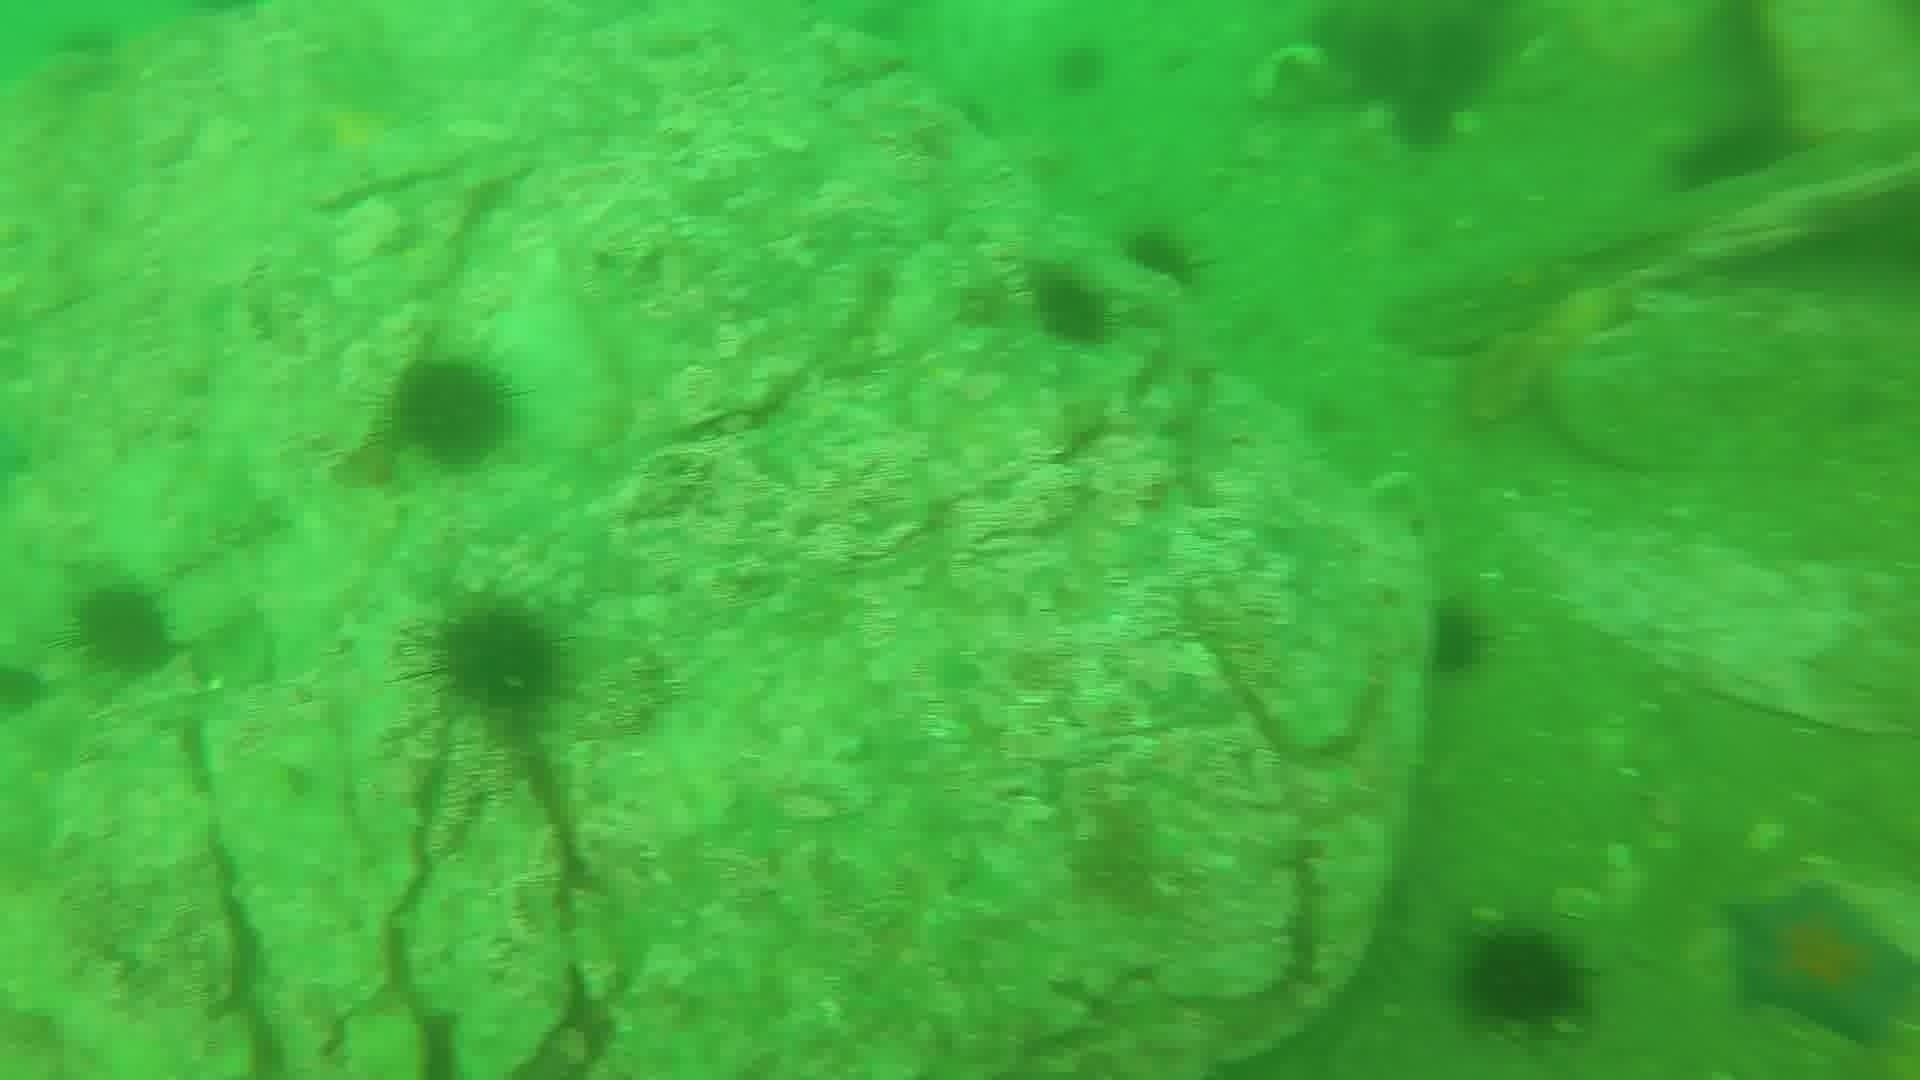echinus: (411, 597, 568, 723), (386, 352, 518, 471), (1455, 923, 1590, 1036), (1665, 109, 1800, 196), (65, 580, 178, 682), (1027, 269, 1118, 352), (1419, 597, 1495, 680), (1120, 222, 1207, 290), (1385, 80, 1464, 156), (1046, 38, 1114, 99)
starfish: (1718, 881, 1915, 1048), (291, 92, 418, 181)
